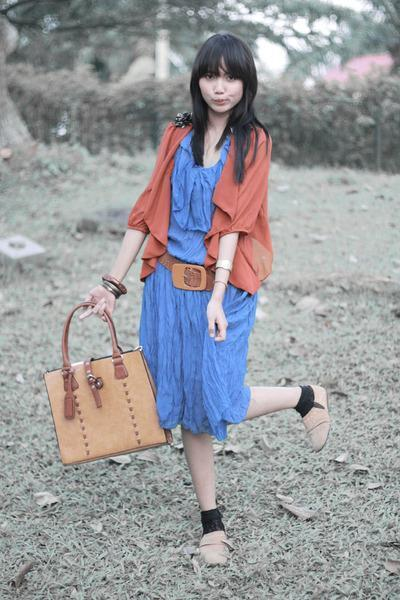bag: (45, 306, 165, 462)
dress: (139, 132, 257, 440)
shirt: (128, 121, 275, 295)
shoe: (197, 383, 334, 563)
